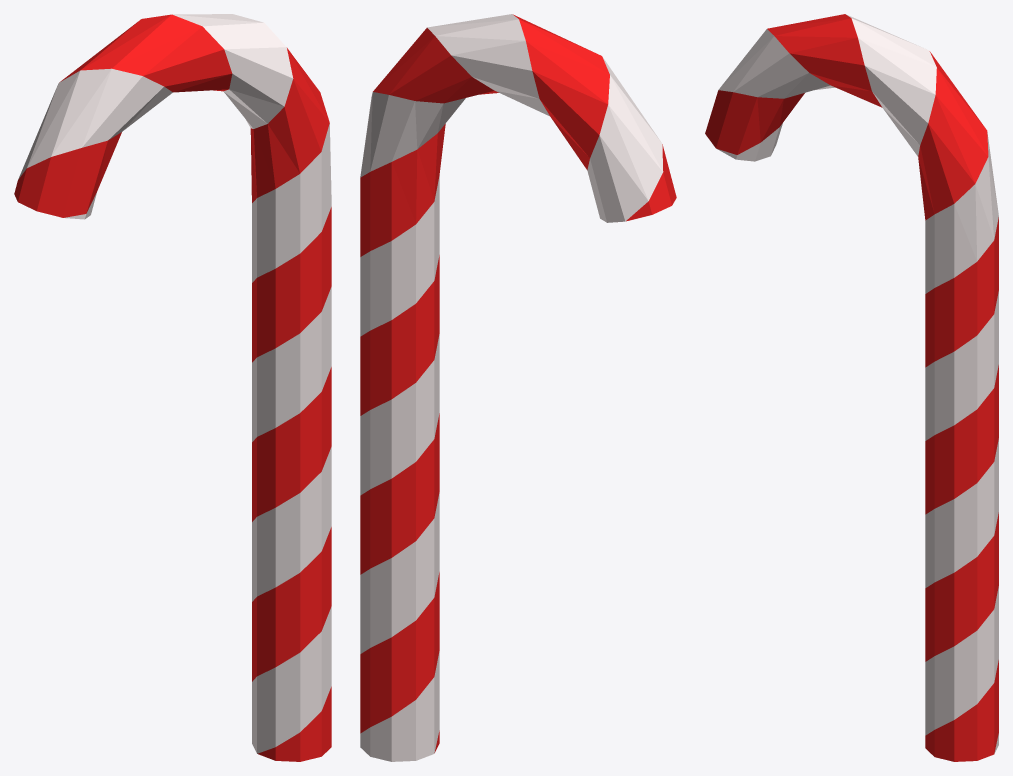
Rendered from 275_Candy Cane.obj.
3 views of the same model, side by side, from view 1: azimuth 30°, elevation 25°; view 2: azimuth 150°, elevation 25°; view 3: azimuth 330°, elevation 25° (orthographic). The views are drawn at different scales.
Visible parts, largest first — view 1: Candy_Cane; view 2: Candy_Cane; view 3: Candy_Cane.
Part boxes in pixels (x1,y1,x2,y2): Candy_Cane: [14, 14, 331, 761]; Candy_Cane: [360, 14, 676, 761]; Candy_Cane: [705, 14, 998, 761].
Size of the model in its own units: 22.57 by 53.09 by 4.83.
